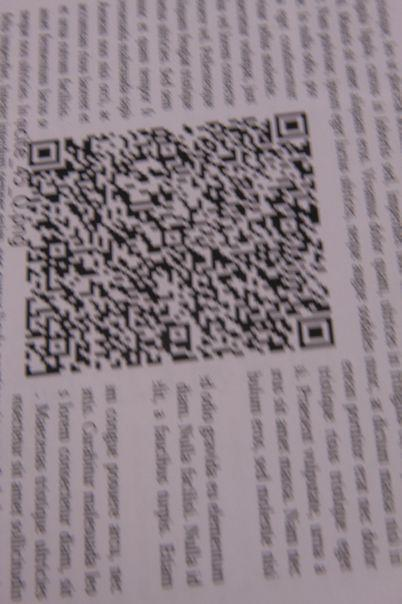qr_code: (24, 111, 334, 377)
